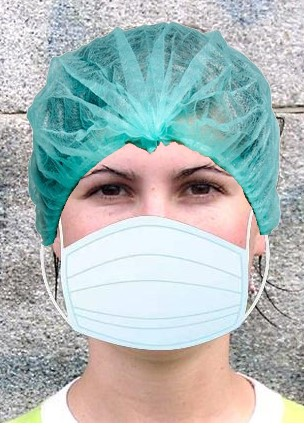with_mask_and_cap: (30, 22, 279, 356)
